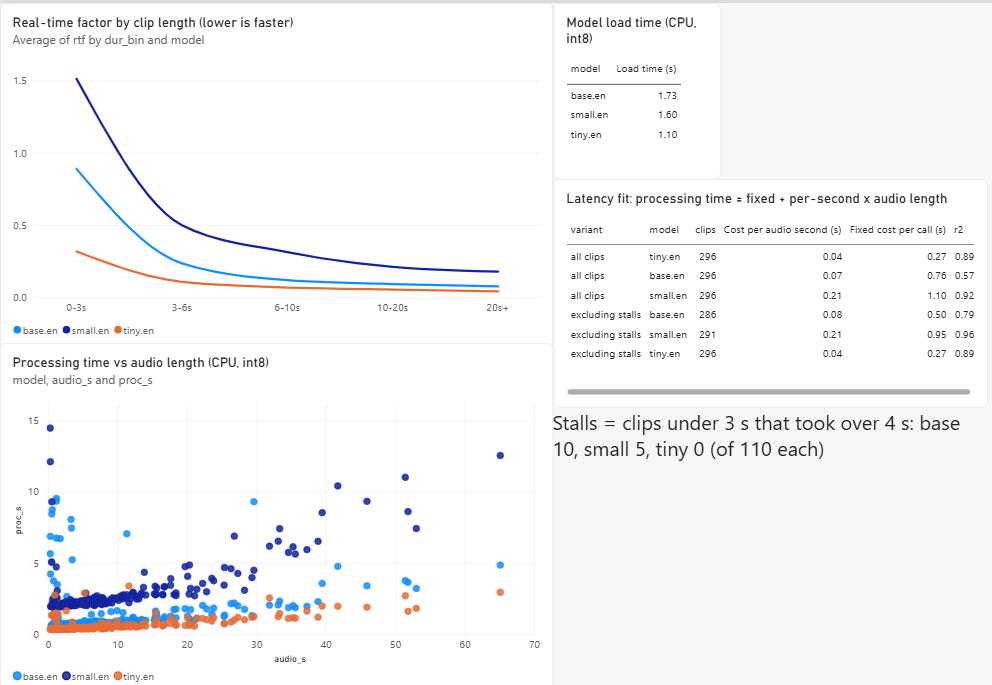

The dashboard page shown, as its layout file describes it:
{"tool":"powerbi","page":{"name":"Latency","canvas":[1920,1080],"ordinal":1},"visuals":[{"type":"lineChart","title":"Real-time factor by clip length (lower is faster)","fields":{"Category":["rtf_by_duration.dur_bin"],"Series":["rtf_by_duration.model"],"Y":["Avg(rtf_by_duration.rtf)"]},"box":[0,0,737.5,467.5],"z":0},{"type":"scatterChart","title":"Processing time vs audio length (CPU, int8)","fields":{"Series":["fact_clips.model"],"X":["fact_clips.audio_s"],"Y":["fact_clips.proc_s"]},"box":[0,452.5,737.5,475],"z":1000},{"type":"textbox","box":[0,928.6,797.1,40],"z":2000},{"type":"tableEx","title":"Model load time (CPU, int8)","fields":{"Values":["model_load_cpu.model","model_load_cpu.load_s"]},"box":[737.5,0,222.5,235],"z":3000},{"type":"tableEx","title":"Latency fit: processing time = fixed + per-second x audio length","fields":{"Values":["latency_fit.variant","latency_fit.model","latency_fit.clips","latency_fit.cost_per_audio_s","Sum(latency_fit.fixed_cost_s)","latency_fit.r2"]},"box":[738.3,235,578.3,305],"z":4000},{"type":"textbox","box":[737.1,540,580,80],"z":5000}]}

Visuals, with their boxes on the page's 1920x1080 design canvas (x1, y1, x2, y2). These are canvas units, not pixel positions in the 992x685 screenshot, which may show the page scaled, cropped or inside an application window:
"Real-time factor by clip length (lower is faster)" lineChart: {"left": 0, "top": 0, "right": 738, "bottom": 468}
"Processing time vs audio length (CPU, int8)" scatterChart: {"left": 0, "top": 452, "right": 738, "bottom": 928}
textbox: {"left": 0, "top": 929, "right": 797, "bottom": 969}
"Model load time (CPU, int8)" tableEx: {"left": 738, "top": 0, "right": 960, "bottom": 235}
"Latency fit: processing time = fixed + per-second x audio length" tableEx: {"left": 738, "top": 235, "right": 1317, "bottom": 540}
textbox: {"left": 737, "top": 540, "right": 1317, "bottom": 620}
